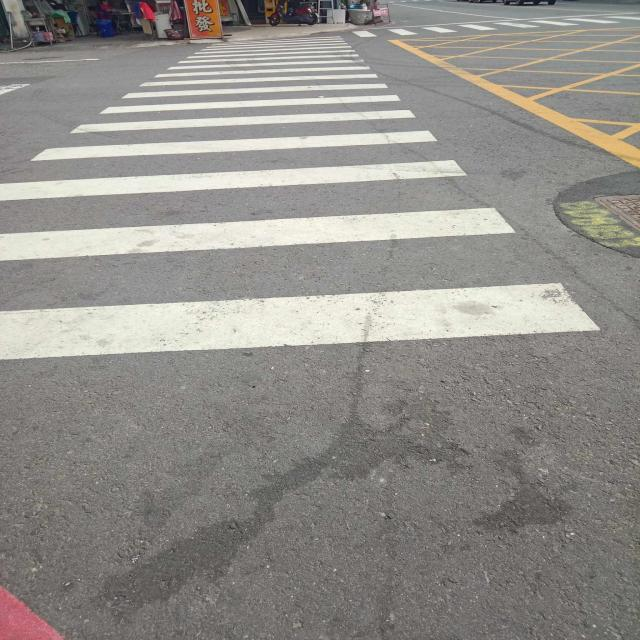zebra_crossing: (168, 9, 540, 49), (239, 17, 460, 56)
